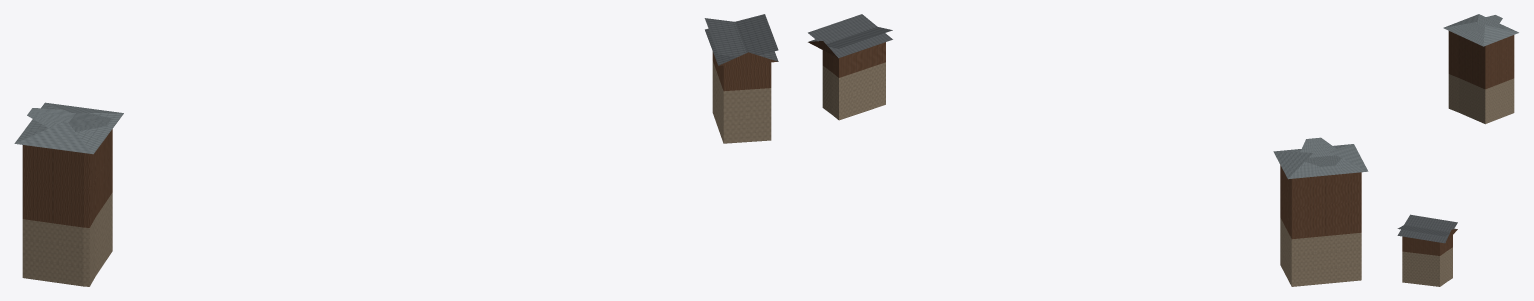
Rendered from bld_c17_28_381.gltf.
3 views of the same model, side by side, from view 1: azimuth 30°, elevation 25°; view 2: azimuth 150°, elevation 25°; view 3: azimuth 270°, elevation 25° (orthographic). The views are drawn at different scales.
Visible parts, largest first — view 1: bld_c17_28_381; view 2: bld_c17_28_381; view 3: bld_c17_28_381.
Boxes of the visible parts, x1,y1,x2,y2 form: bld_c17_28_381: (14, 14, 778, 286); bld_c17_28_381: (808, 14, 1368, 286); bld_c17_28_381: (1397, 14, 1518, 286).
Size of the model in its own units: 65.38 by 12.8 by 16.27.
Materials: 5 (5 with a texture image).
